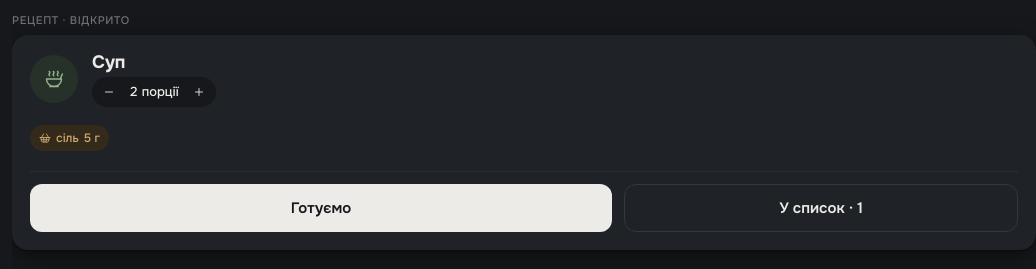
Test: Р2/Р4: картка рецепта в стрічці — без cook.go, низ дій у три стани › «Уже в списку» — клік по «У список · N» переводить кнопку в неактивний стан
Click the button "У список · 1" at [821, 208], box [624,184,1018,232]
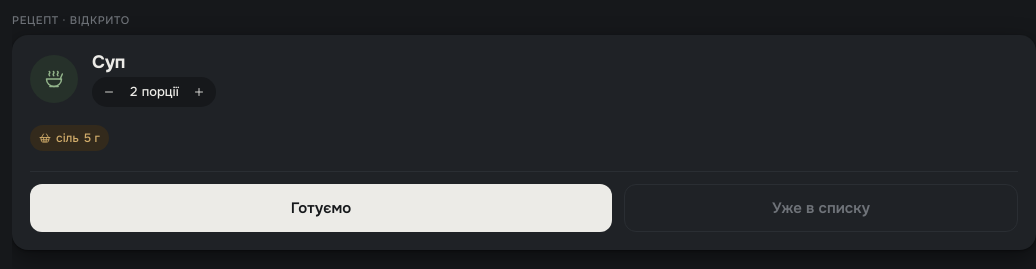
Now the button "Уже в списку" is disabled, box [624,184,1018,232]
Now the button "Уже в списку" is shown, box [624,184,1018,232]
